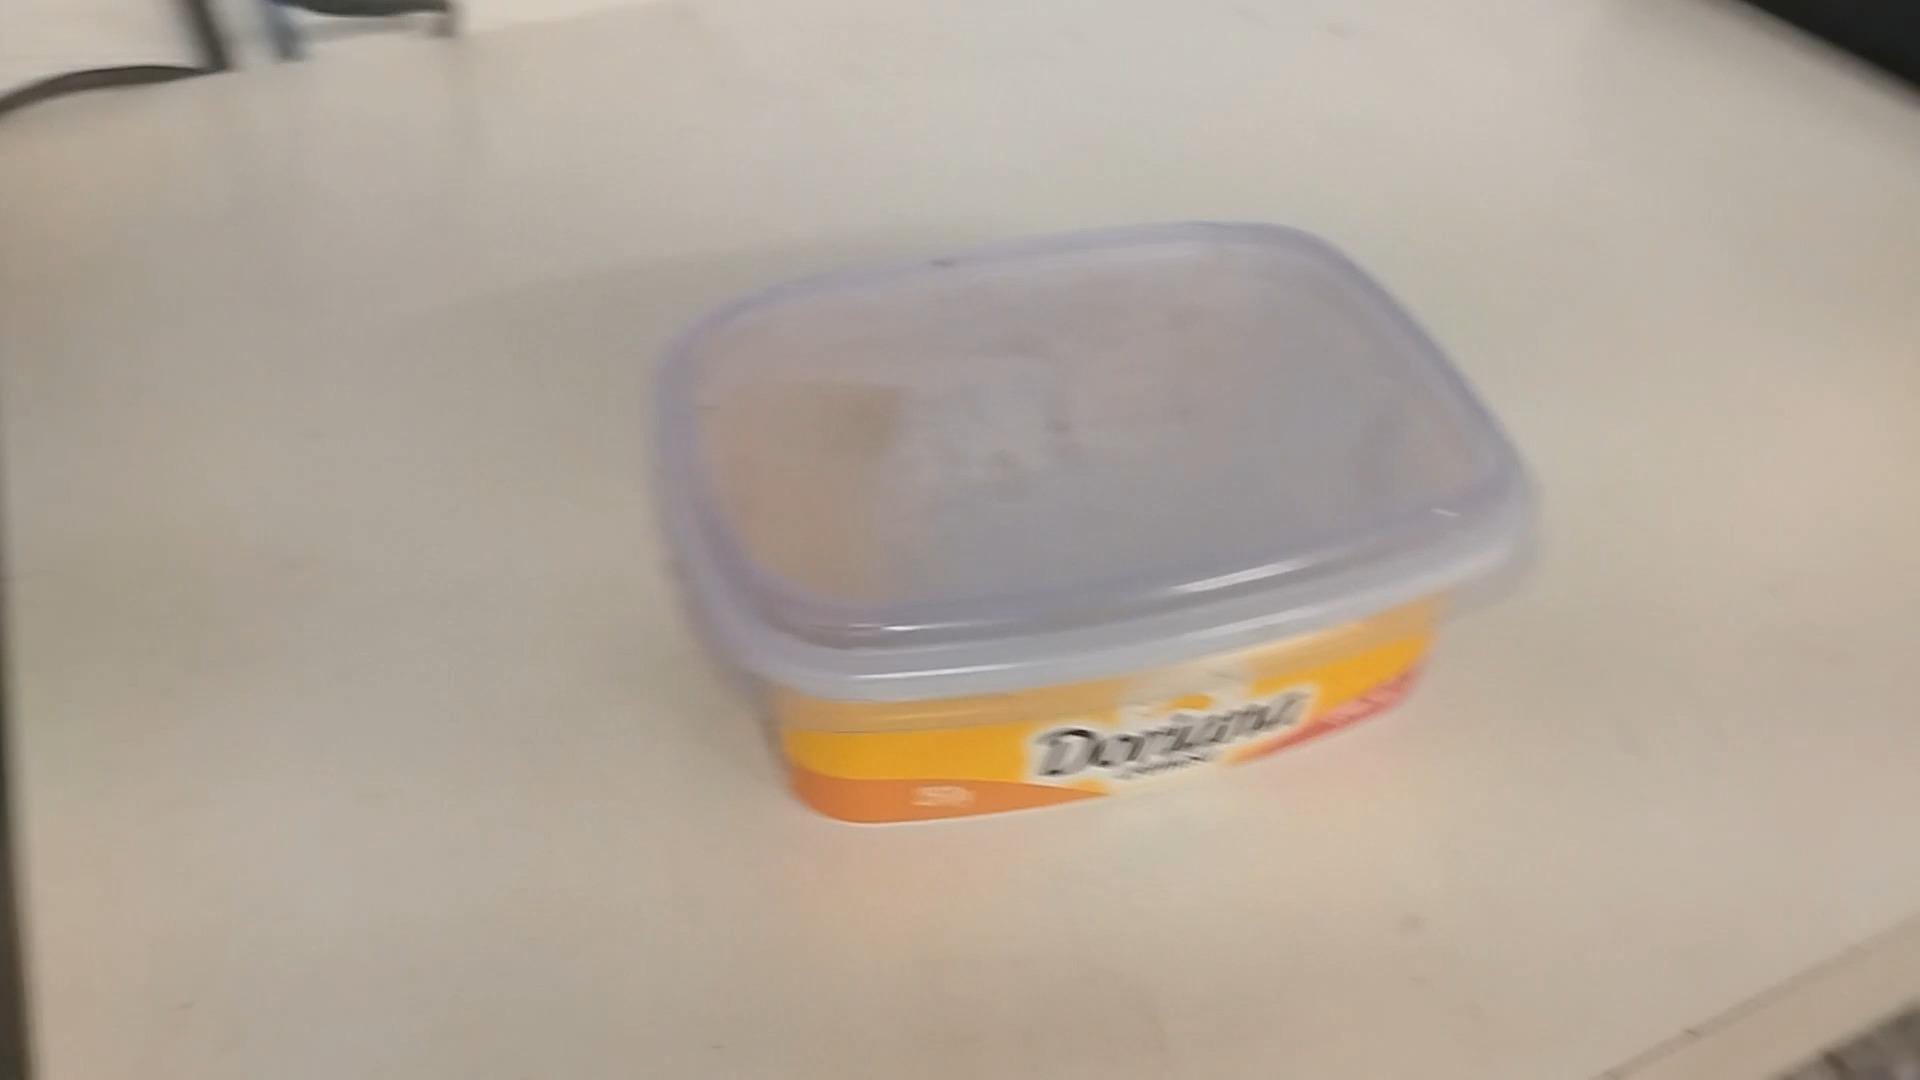butter: (651, 229, 1542, 831)
